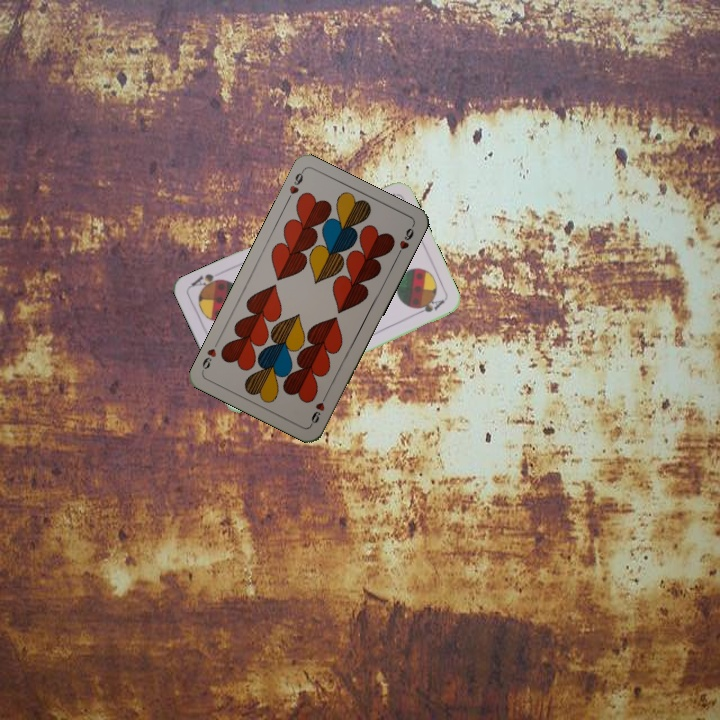H9: (282, 167, 307, 205), (307, 390, 330, 428)
